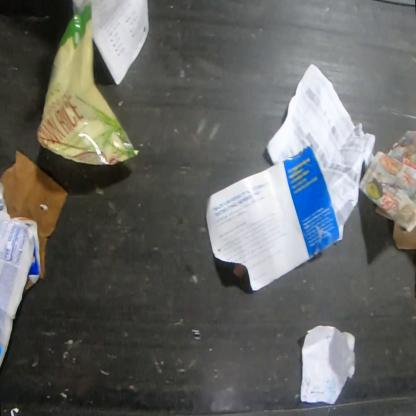cardboard: (0, 150, 69, 279), (0, 217, 41, 369), (392, 222, 416, 250)
soft_plastic: (35, 2, 141, 169)
